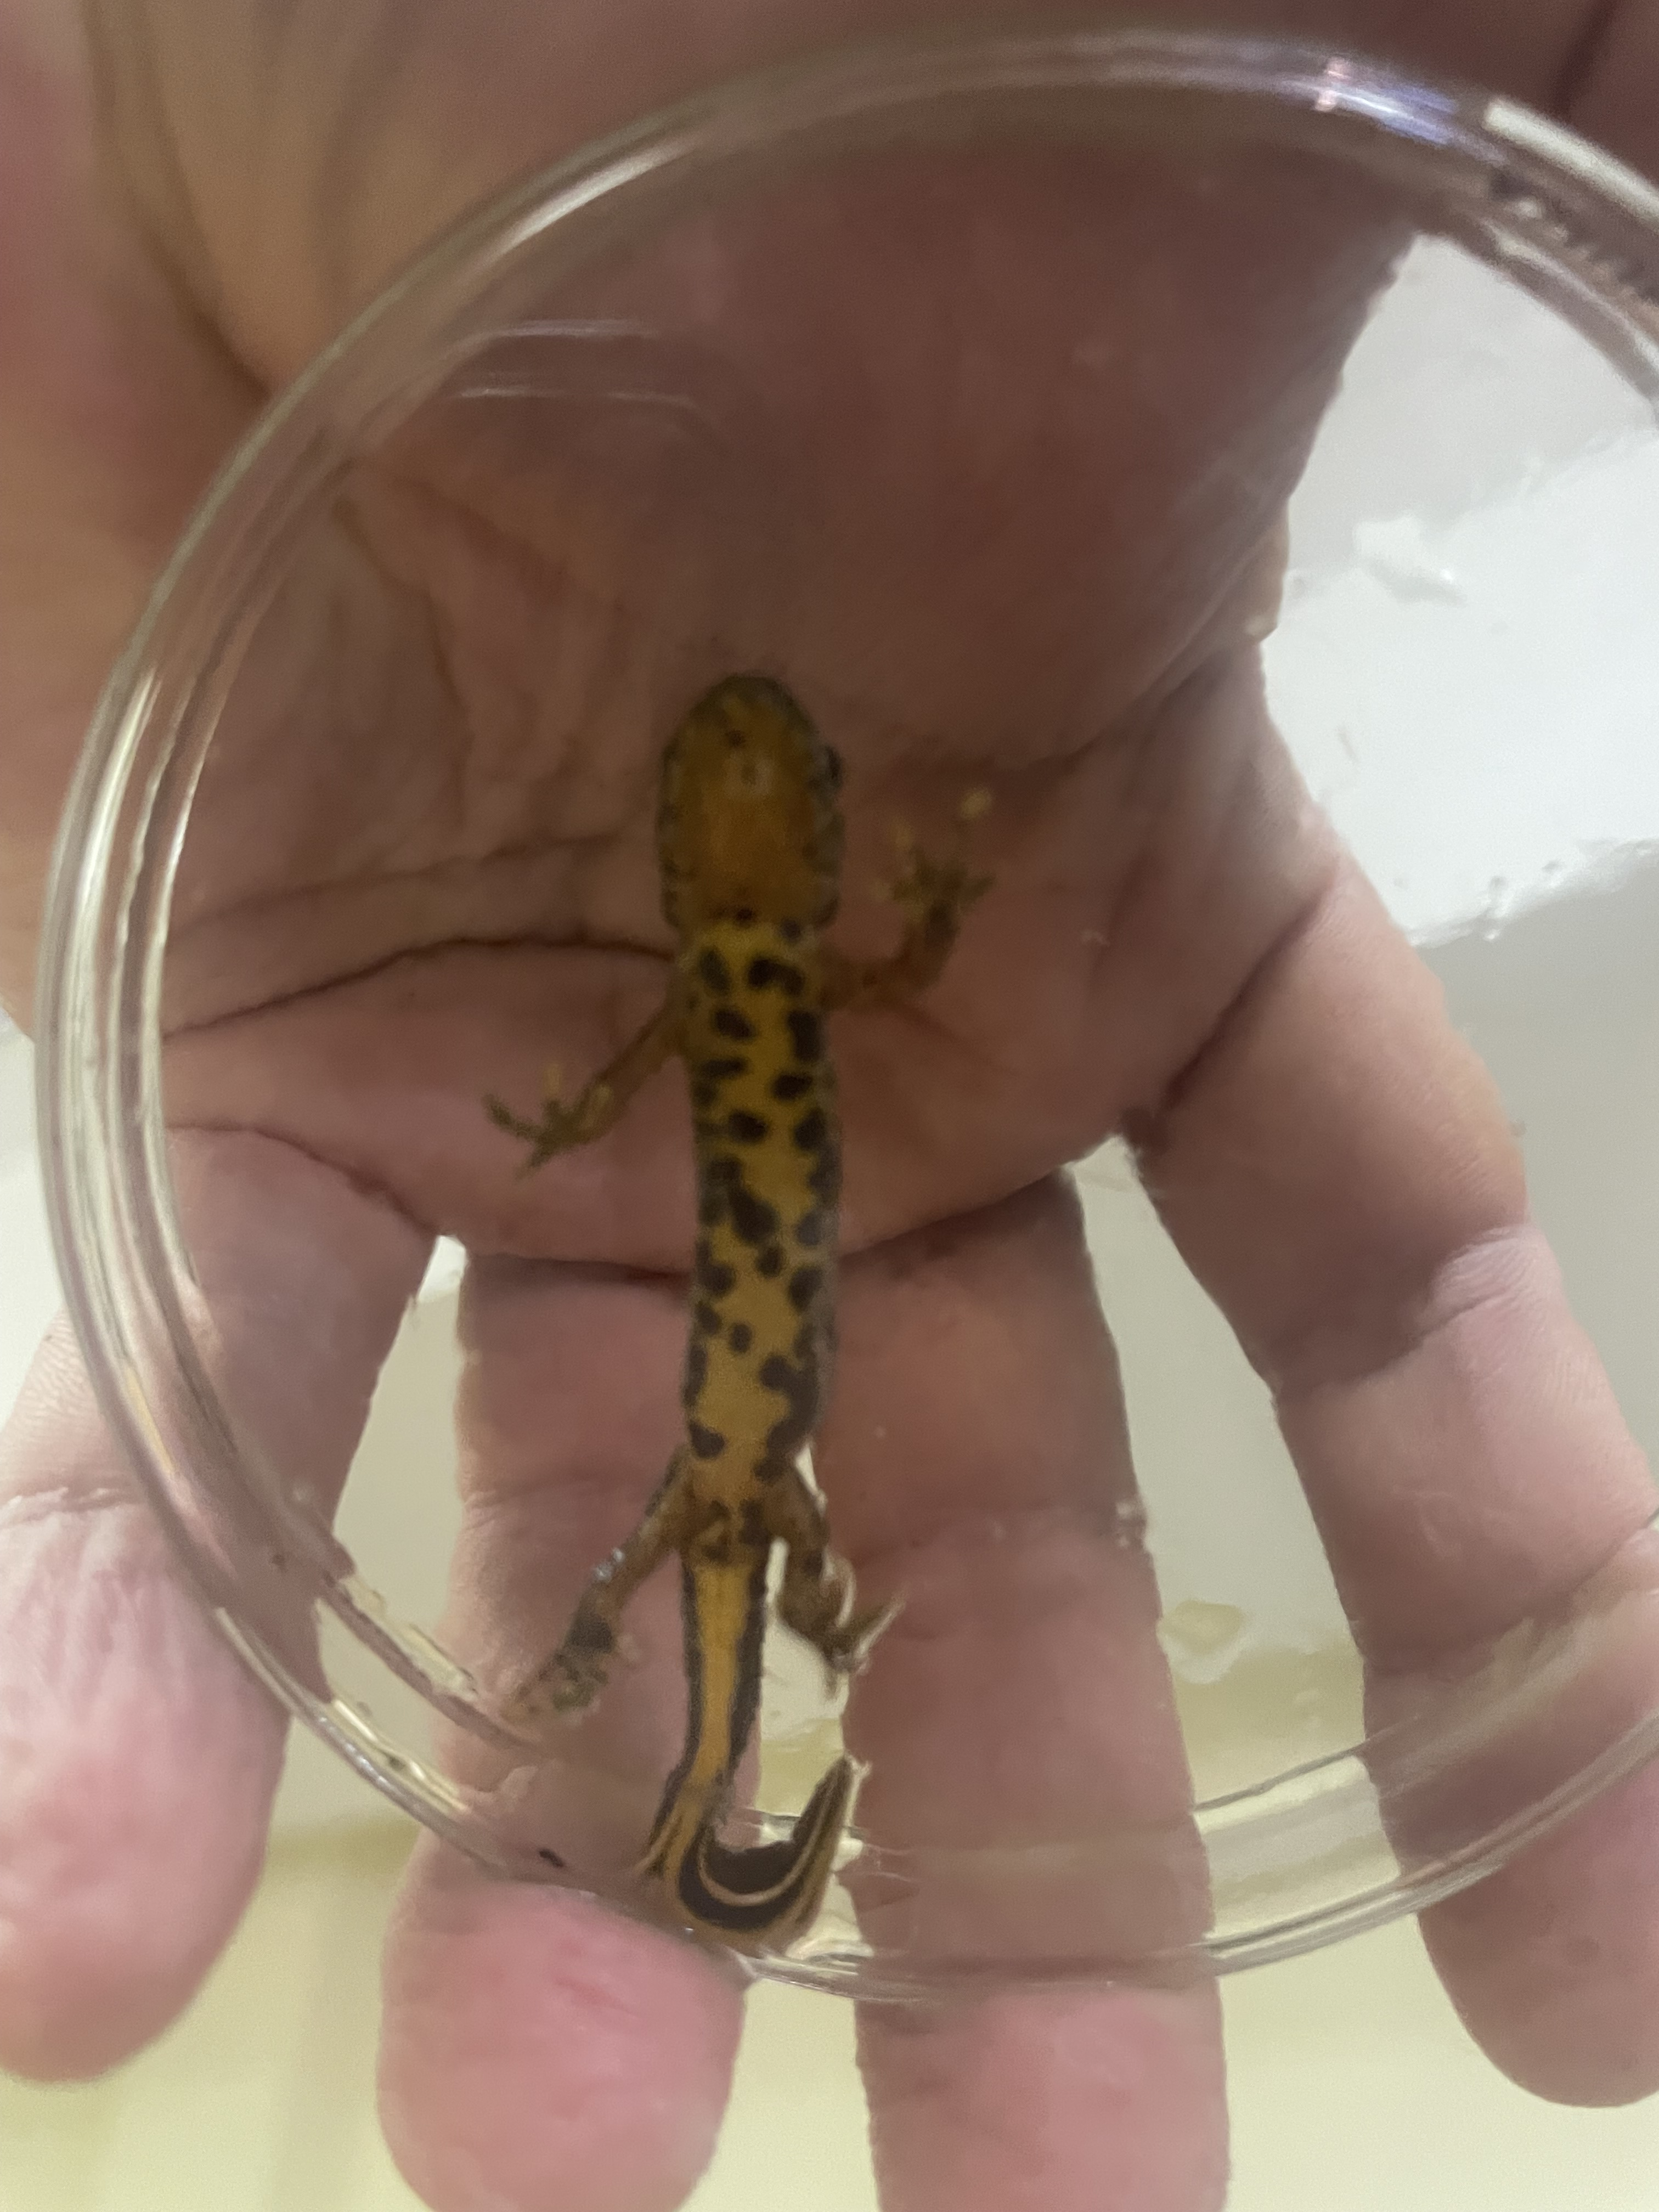Karelin_newt: (681, 1012, 842, 1465)
